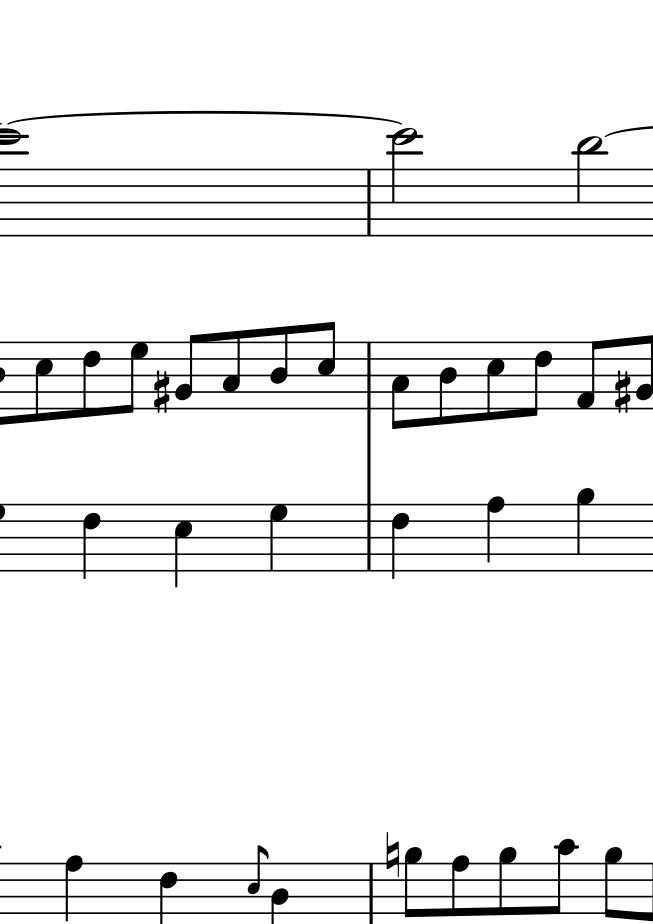2_11: (574, 136, 604, 238)
2_12: (388, 128, 420, 240)
4_5: (173, 502, 195, 590)
4_6: (390, 503, 412, 582), (81, 502, 102, 581)
4_7: (269, 501, 290, 573)
4_8: (61, 854, 88, 924), (485, 494, 506, 574)
4_9: (575, 486, 598, 573)
8_1: (575, 338, 604, 410)
8_10: (550, 835, 576, 924)
8_2: (174, 333, 199, 413), (634, 333, 653, 410)
8_3: (389, 339, 413, 432), (220, 329, 243, 413)
8_4: (435, 339, 459, 426), (270, 325, 293, 410)
8_5: (315, 320, 339, 412), (32, 339, 54, 423), (485, 341, 506, 422)
8_6: (523, 340, 553, 419), (78, 339, 100, 420)
8_7: (116, 340, 149, 414)
8_8: (449, 853, 471, 924)
8_9: (600, 846, 627, 924), (495, 845, 520, 924), (403, 845, 425, 924)
Natural: (383, 830, 402, 878)
Sharp: (151, 369, 173, 416), (612, 370, 633, 416)
Single_barline: (358, 343, 379, 409), (361, 503, 379, 570), (361, 169, 378, 236)
Slur: (6, 110, 409, 125)
